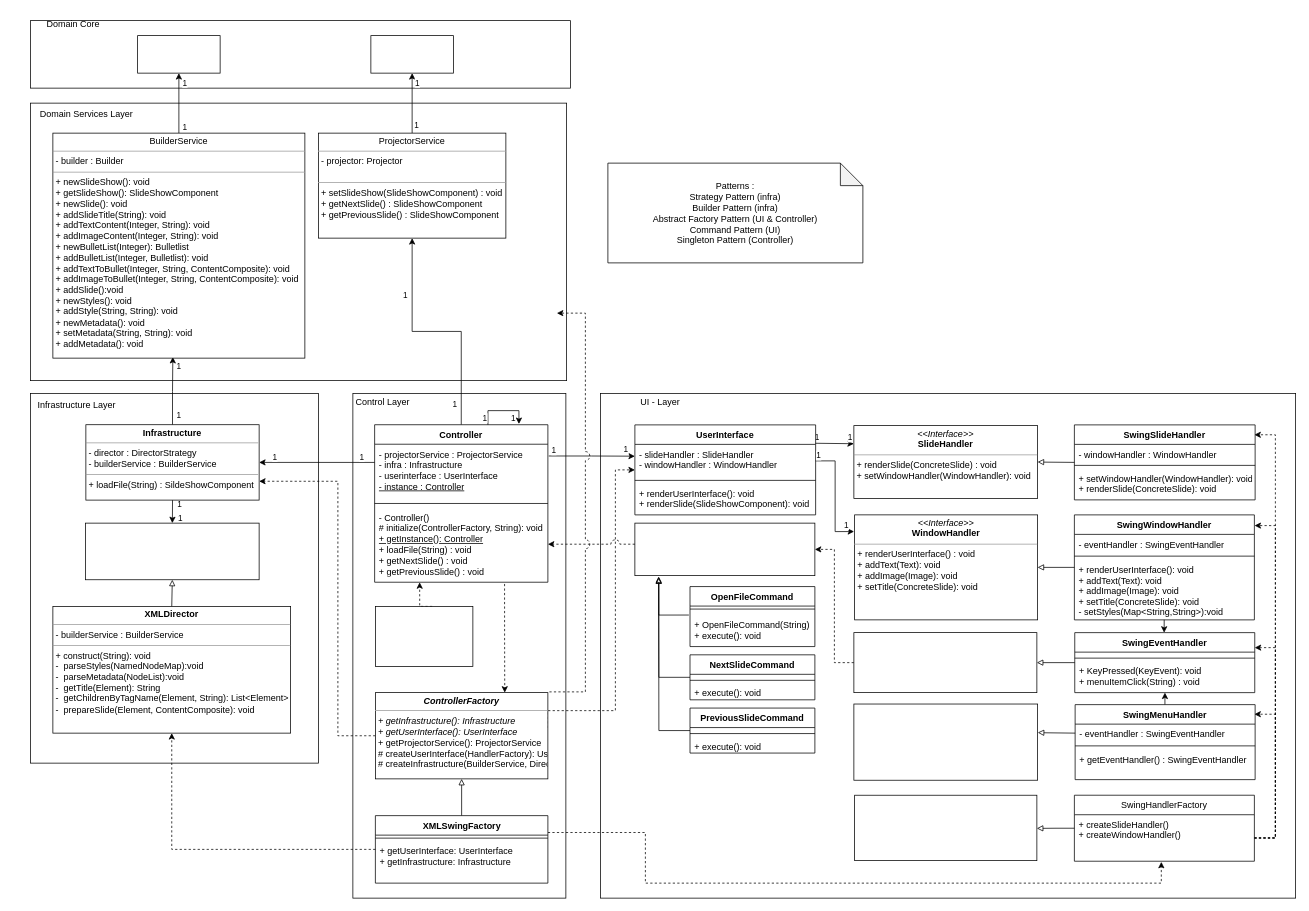
The diagram is 1309 pixels wide and 911 high, and some of its shapes have lost their labels. Here are the shapes that lost their labels. From the top down, the centre of each, then its label:
the point at 178,54: <<Interface>> Builder
the point at 411,54: Projector
the point at 172,551: <<Interface>> DirectorStrategy + construct(BulderService, String): void
the point at 724,549: <<Interface>> Command + execute(): void
the point at 424,636: JabberPoint - filepath : String + main():void
the point at 945,662: <<Interface>> EventHandler + menuItemClick(String) : void
the point at 945,741: <<Interface>> MenuHandler + getEventHandler() : EventHandler
the point at 945,827: <<Interface>> HandlerFactory + createSlideHandler() + createWindowHandler()
